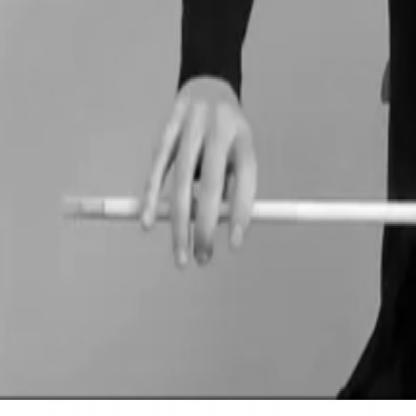good: (125, 62, 281, 289)
